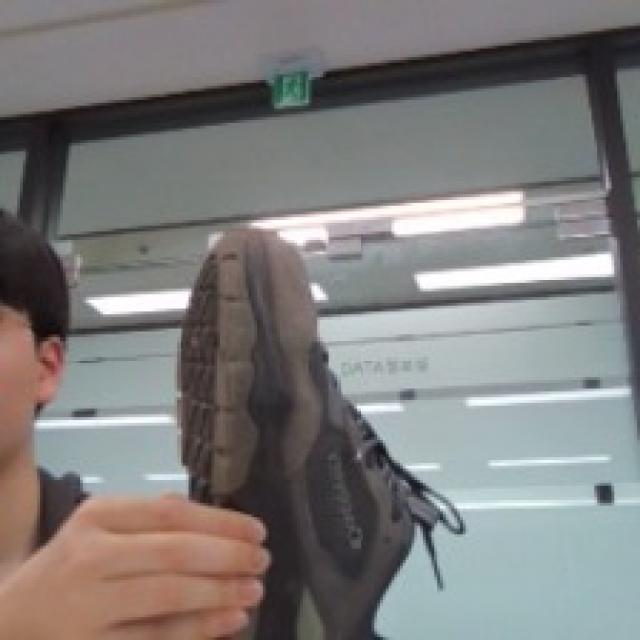shoe: (126, 210, 476, 620)
